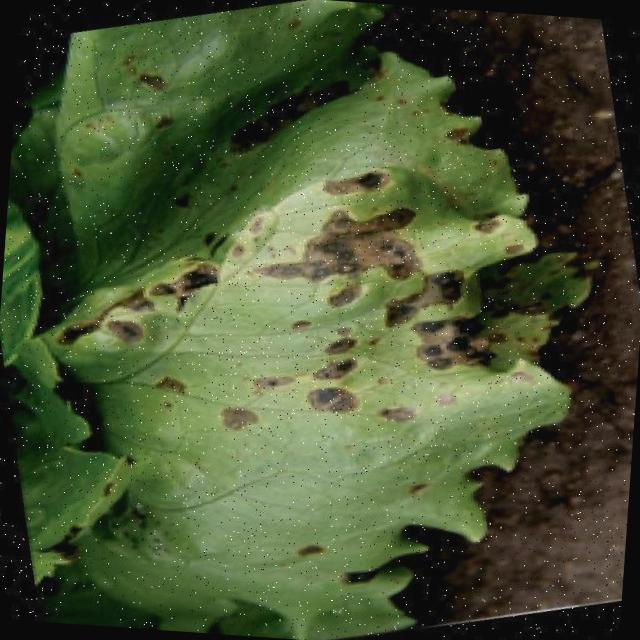Bacterial: (40, 160, 558, 525)
